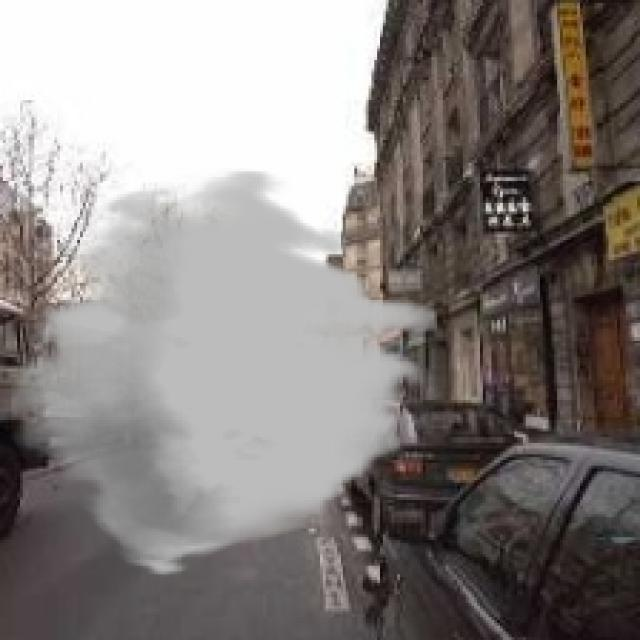smoke: (12, 169, 437, 577)
